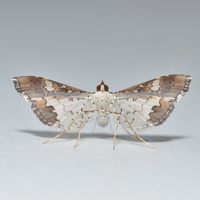insect: (13, 74, 191, 148)
